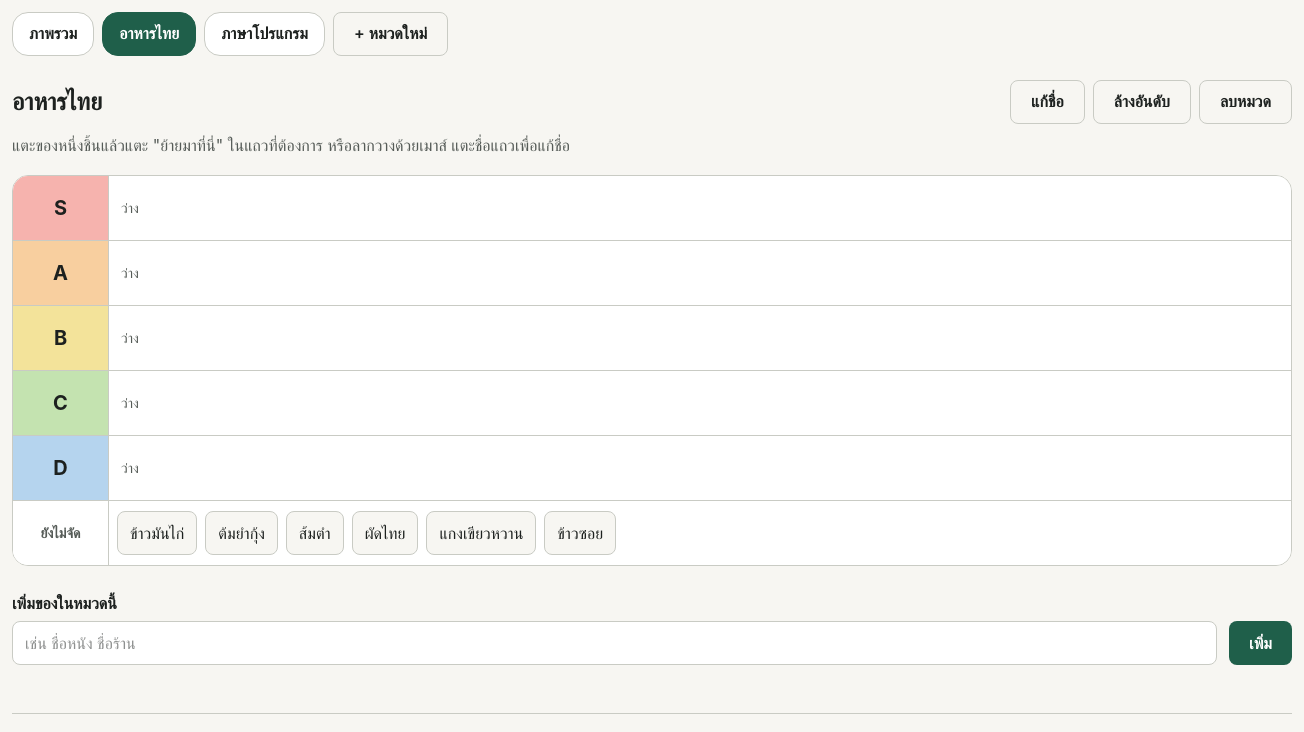
Test: TierBoard › keeps this tab's open category on sync when it still exists
The image size is (1304, 732).
Click the button "ภาษาโปรแกรม" at (265, 34), box [204,12,325,56]
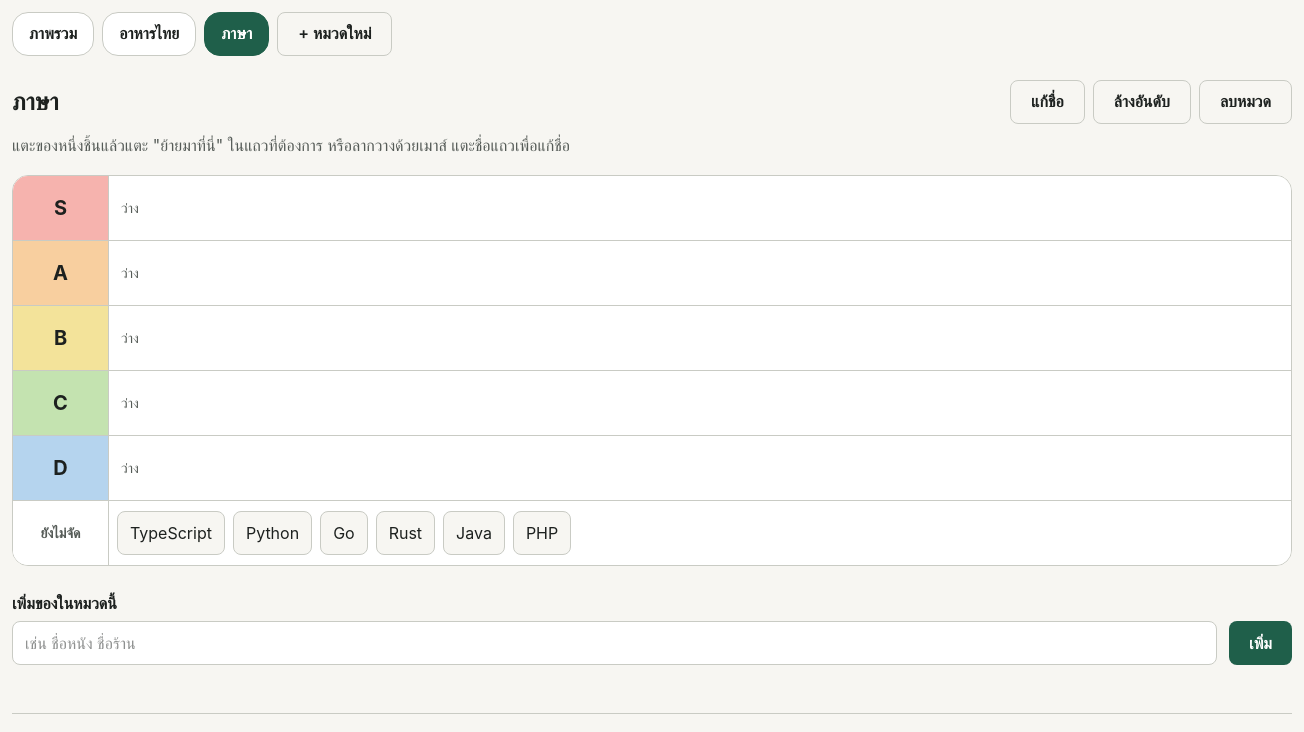
expect the heading "ภาษา" is shown: met, box [12,86,58,118]
